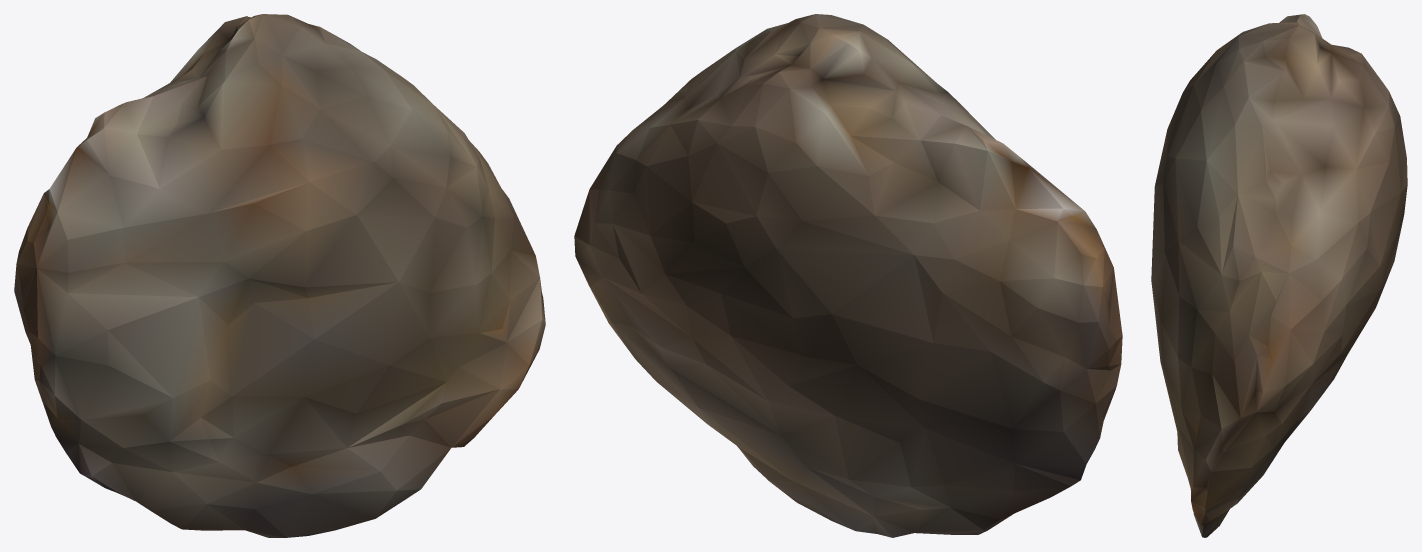
The model's file is shell-cockle.gltf.
The picture shows the model from 3 angles, left to right: view 1: azimuth 30°, elevation 25°; view 2: azimuth 150°, elevation 25°; view 3: azimuth 270°, elevation 25°; orthographic projection. The views are drawn at different scales.
Visible parts, largest first — view 1: Object_2; view 2: Object_2; view 3: Object_2.
Part boxes in pixels (left/top/right/bottom): Object_2: left=14, top=14, right=545, bottom=537; Object_2: left=574, top=14, right=1122, bottom=537; Object_2: left=1151, top=14, right=1407, bottom=537.
Bounding box in the file's own units: 1.06 × 1 × 0.478.
